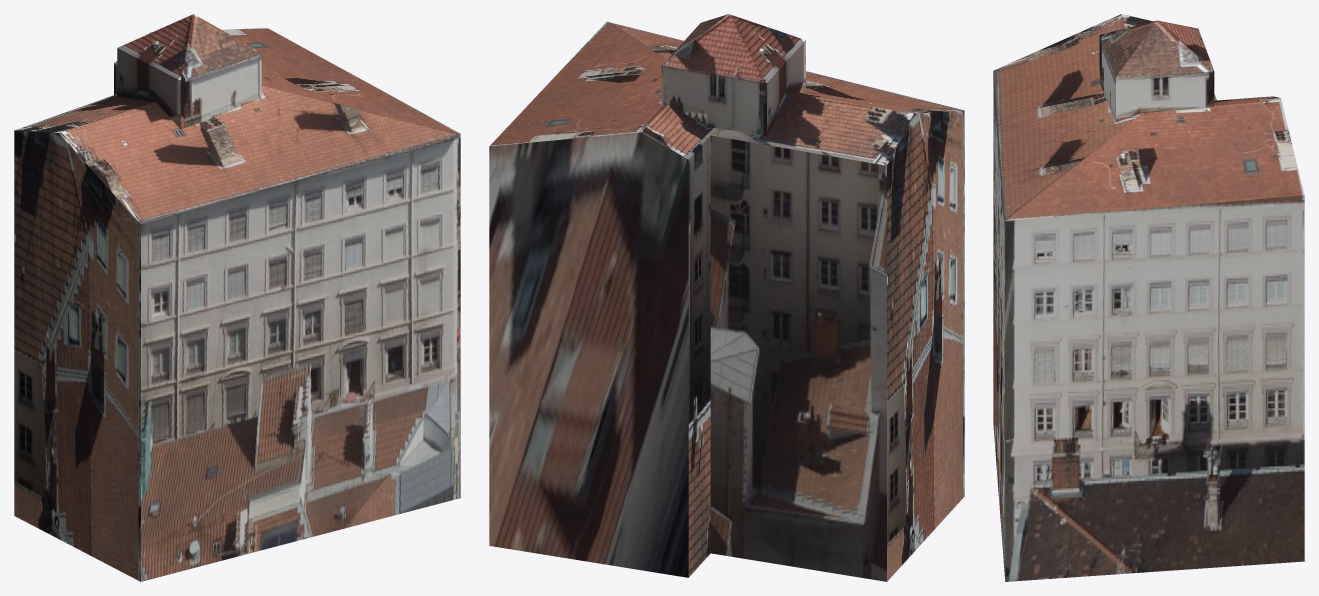
3 renders of one model, left to right at view 1: azimuth 30°, elevation 25°; view 2: azimuth 150°, elevation 25°; view 3: azimuth 270°, elevation 25°, orthographic. The views are drawn at different scales.
Parts seen in each view (by area): view 1: Z_UP; view 2: Z_UP; view 3: Z_UP.
Part boxes in pixels (x1=…): Z_UP: x1=14, y1=14, x2=460, y2=581; Z_UP: x1=489, y1=14, x2=964, y2=581; Z_UP: x1=993, y1=14, x2=1304, y2=581.
Bounding box in the file's own units: 24.83 × 31.89 × 19.14.
Materials: 2 (1 with a texture image).
